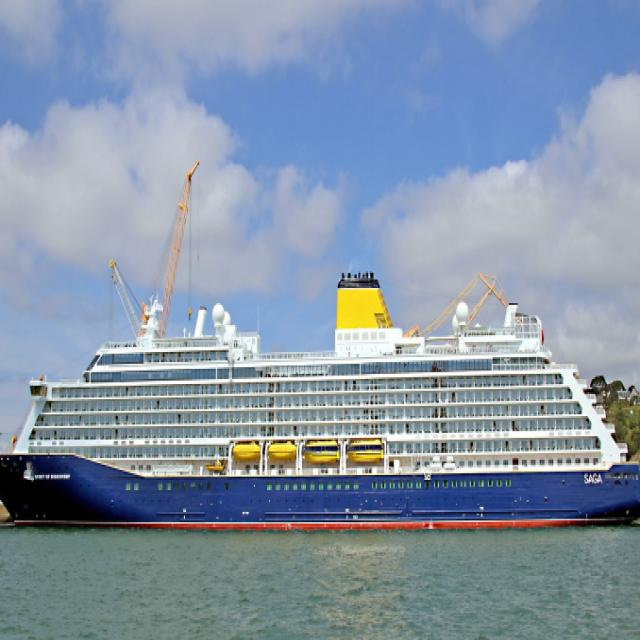cruises: (1, 264, 640, 542)
